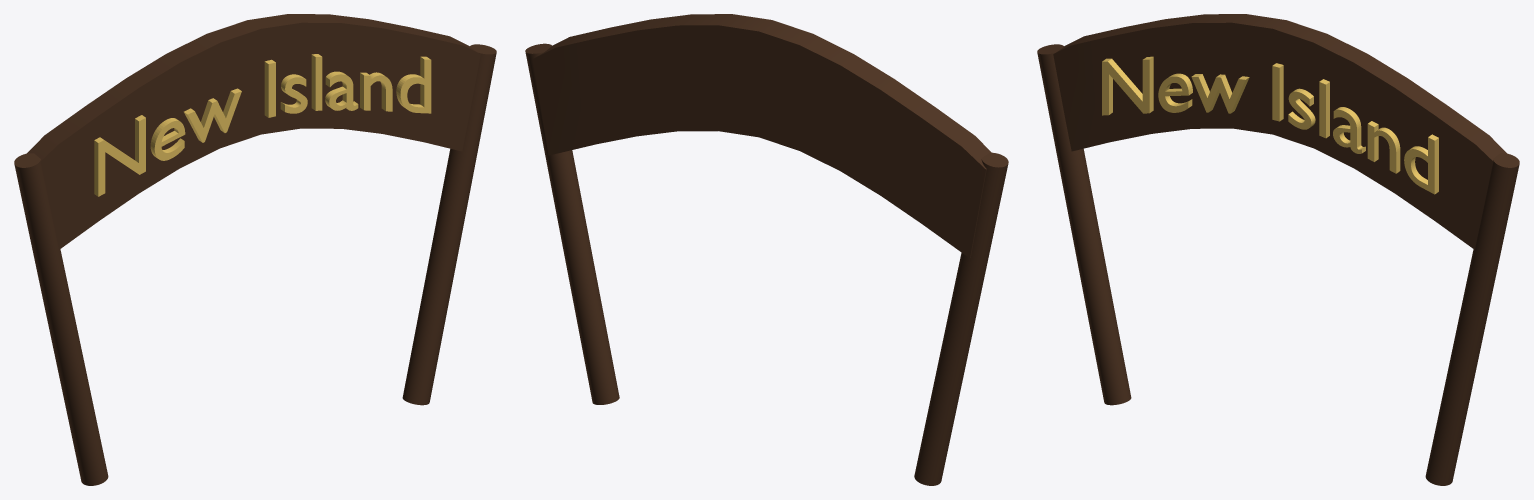
Rendered from gate.fbx.
The picture shows the model from 3 angles, left to right: view 1: azimuth 30°, elevation 25°; view 2: azimuth 150°, elevation 25°; view 3: azimuth 330°, elevation 25°; orthographic projection.
Visible parts, largest first — view 1: Cube.002; view 2: Cube.002; view 3: Cube.002.
Part boxes in pixels (box(x1,y1,x2,y2)): Cube.002: box(14, 14, 496, 485); Cube.002: box(525, 14, 1008, 485); Cube.002: box(1037, 14, 1519, 485).
Bounding box in the file's own units: 635 × 529 × 40.92.
